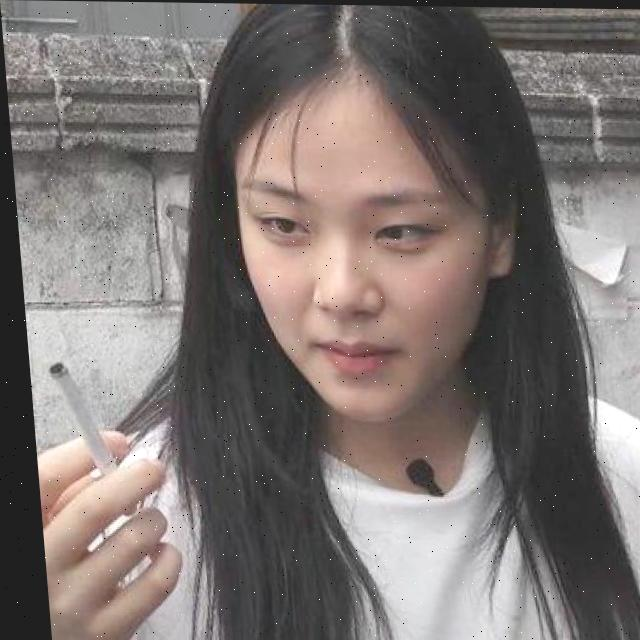cigarette: (40, 358, 132, 517)
